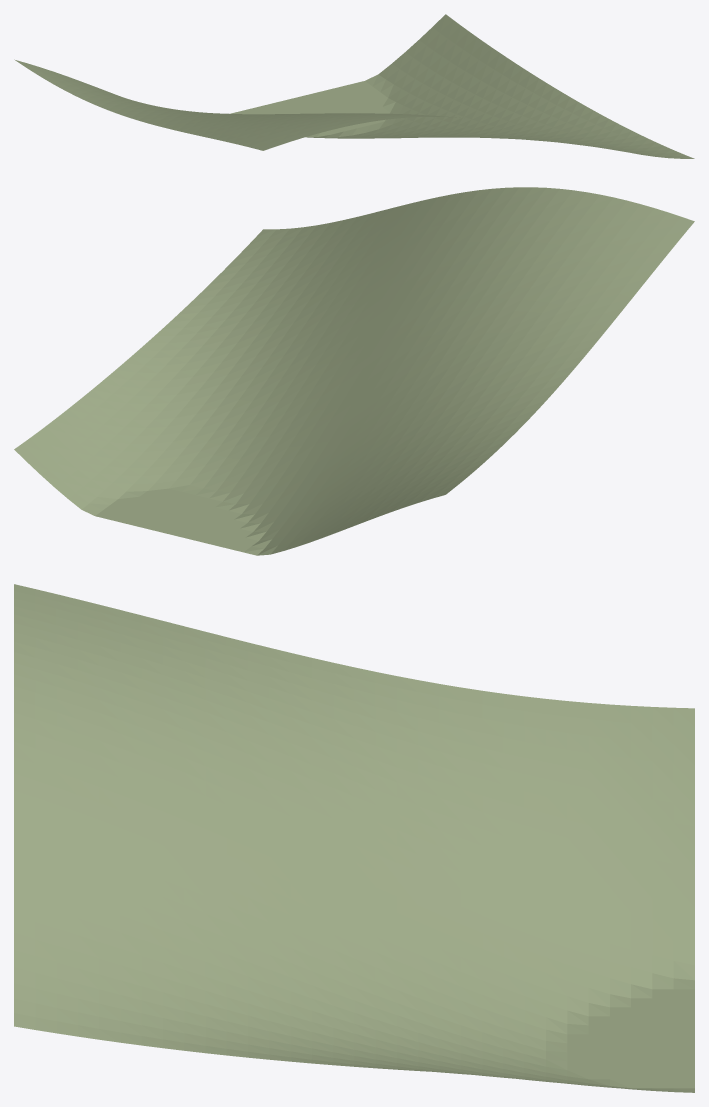
The model's file is expanse-11-21.glb.
The picture shows the model from 3 angles, top to bottom: view 1: azimuth 30°, elevation 25°; view 2: azimuth 150°, elevation 25°; view 3: azimuth 270°, elevation 25°; orthographic projection. The views are drawn at different scales.
Visible parts, largest first — view 1: expanse-11-21; view 2: expanse-11-21; view 3: expanse-11-21.
Part boxes in pixels (bbox=[...]): expanse-11-21: bbox=[14, 14, 694, 158]; expanse-11-21: bbox=[14, 187, 694, 555]; expanse-11-21: bbox=[14, 584, 694, 1092].
Bounding box in the file's own units: 256 × 115 × 256.
